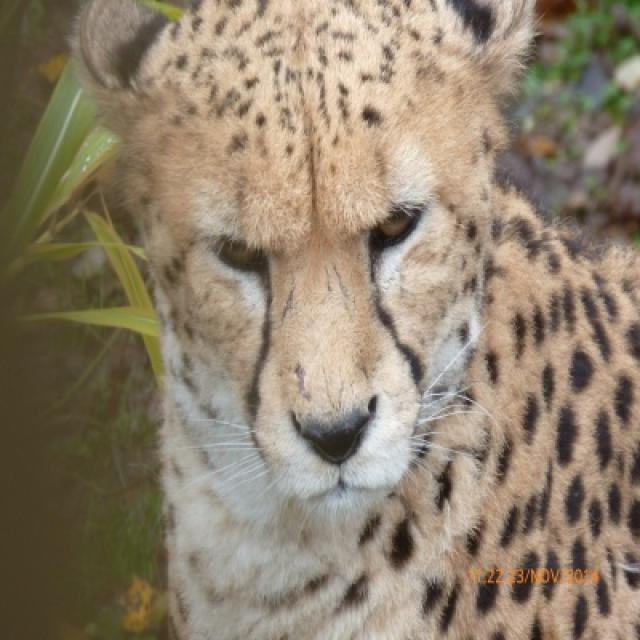Cheetah: (70, 0, 638, 638)
